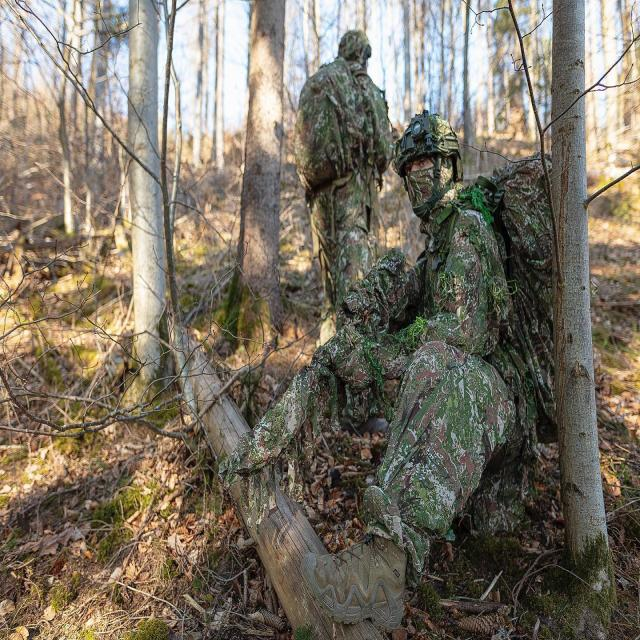camouflaged: (255, 325, 414, 501)
human: (395, 111, 556, 533), (296, 31, 392, 306)
